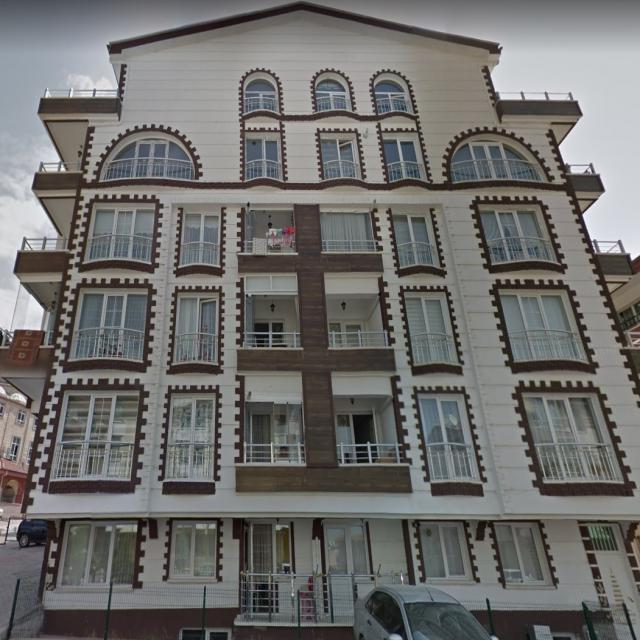Building: (1, 0, 640, 640)
